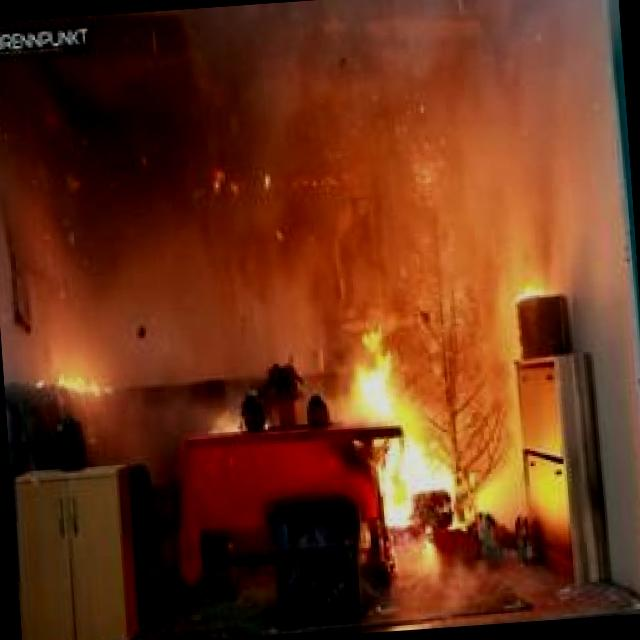fire: (314, 314, 473, 536)
